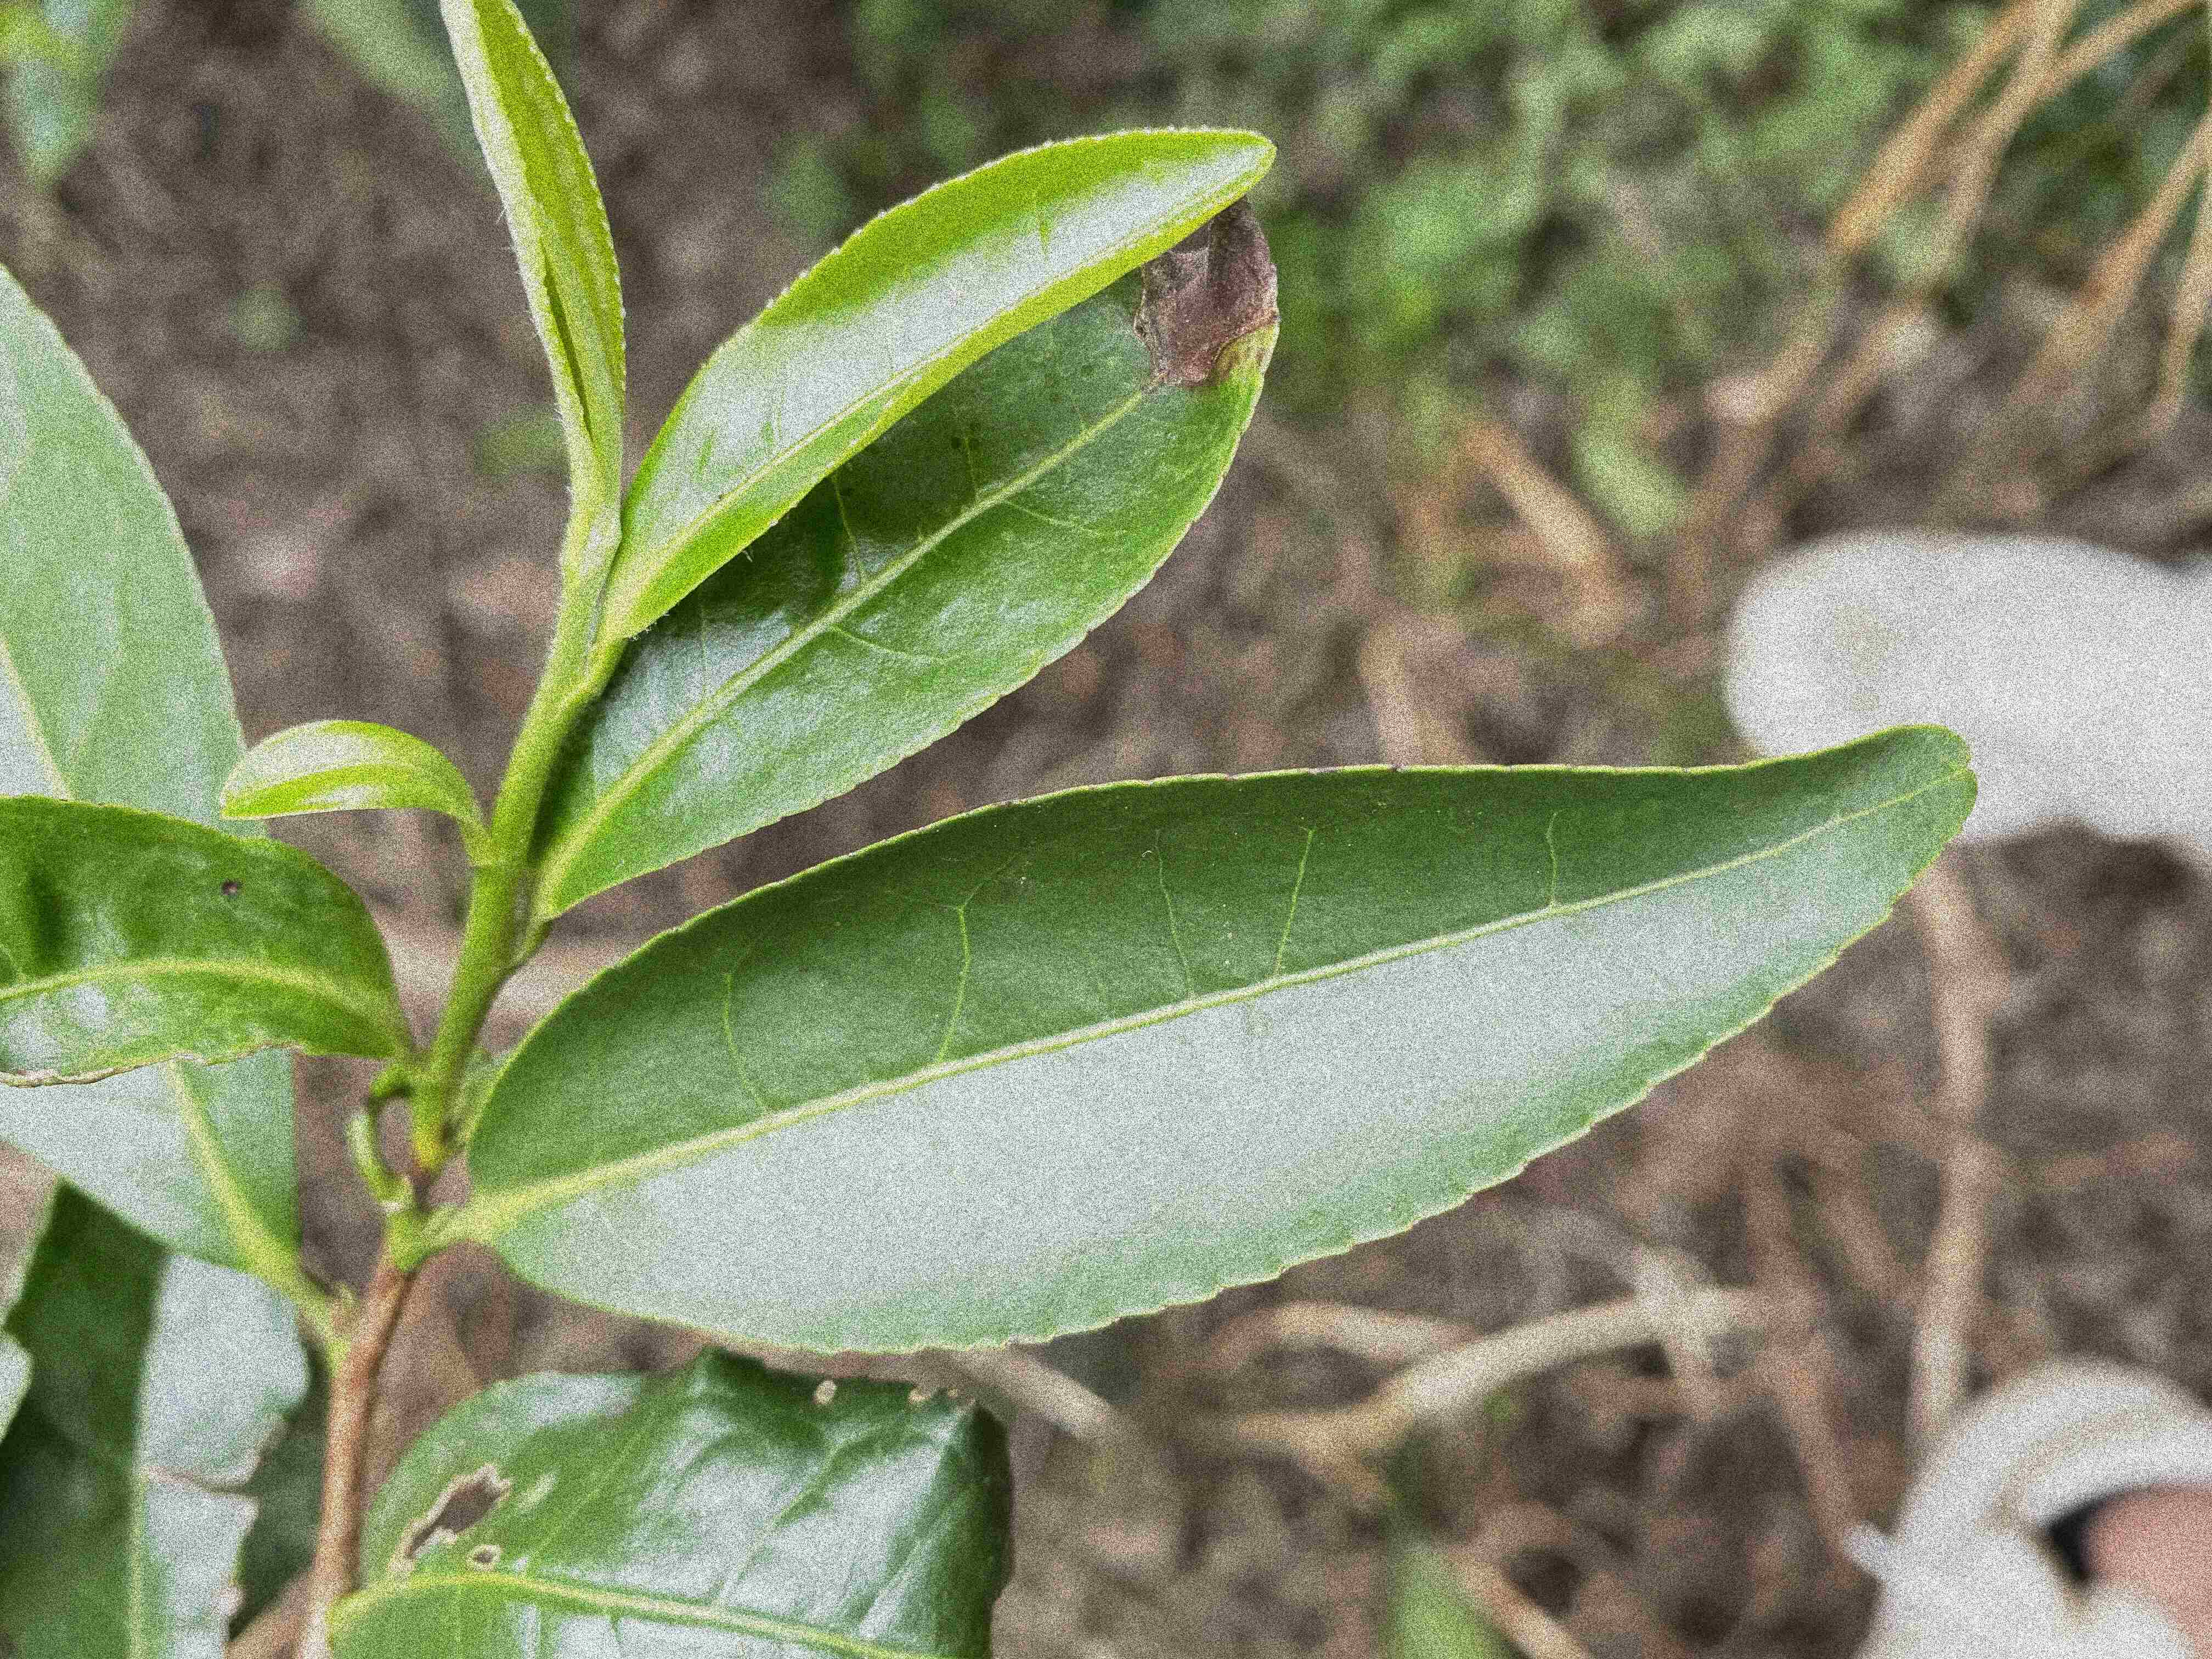chihuo_high: (326, 1345, 1021, 1657)
healthy: (474, 732, 1980, 1356), (599, 124, 1277, 645), (216, 713, 484, 823)
tanju_high: (529, 192, 1273, 924)
